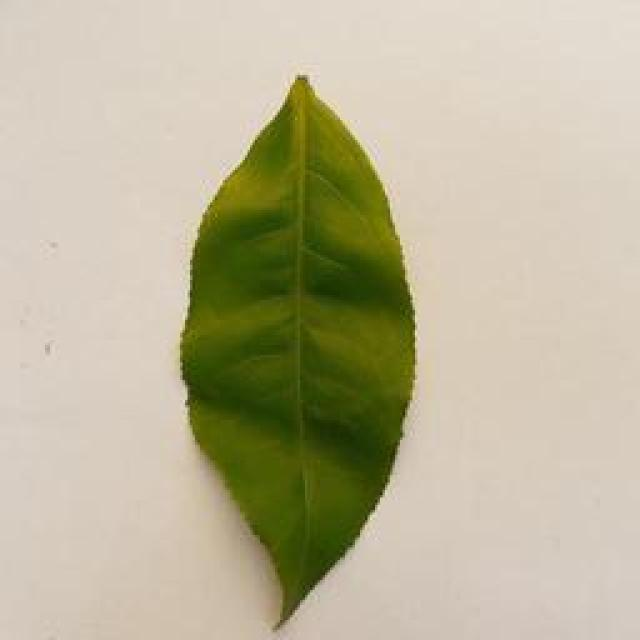Healthy: (183, 74, 423, 633)
